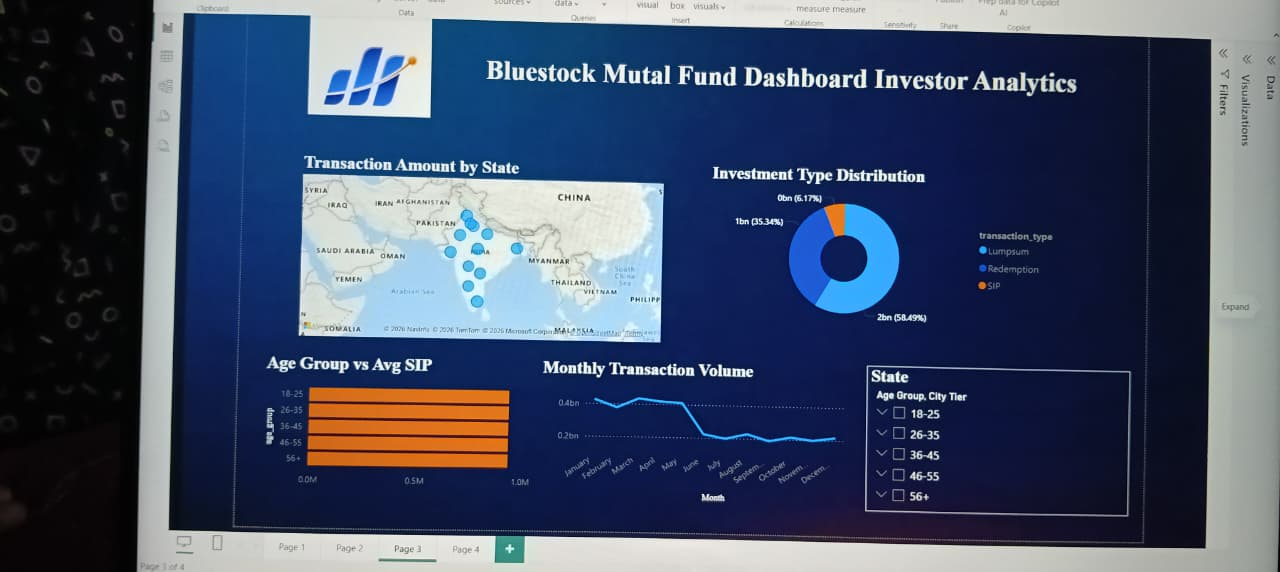

This screenshot's page, from the dashboard's own definition file:
{"tool":"powerbi","page":{"name":"Page 3","canvas":[1280,720],"ordinal":2},"visuals":[{"type":"textbox","box":[283.3,25,945,98.3],"z":0},{"type":"map","title":"Transaction Amount by State","fields":{"Category":["08_investor_transactions.state"],"Size":["Sum(08_investor_transactions.amount_inr)"]},"box":[78.3,193.3,516.7,263.3],"z":1000},{"type":"donutChart","title":"Investment Type Distribution","fields":{"Category":["08_investor_transactions.transaction_type"],"Y":["Sum(08_investor_transactions.amount_inr)"]},"box":[655,193.3,508.3,240],"z":2000},{"type":"clusteredBarChart","title":"Age Group vs Avg SIP","fields":{"Category":["08_investor_transactions.age_group"],"Y":["Sum(04_monthly_sip_inflows.sip_inflow_crore)"]},"box":[35,476.7,380,205],"z":3000},{"type":"lineChart","title":"Monthly Transaction Volume","fields":{"Category":["08_investor_transactions.transaction_date.Variation.Date Hierarchy.Month"],"Y":["Sum(08_investor_transactions.amount_inr)"]},"box":[420,476.7,438.3,205],"z":4000},{"type":"slicer","title":"State","fields":{"Values":["08_investor_transactions.age_group","08_investor_transactions.city_tier"]},"box":[885,478.3,371.7,205],"z":5000},{"type":"image","box":[63.3,0,220,140],"z":6000}]}

Visuals, with their boxes on the page's 1280x720 design canvas (x1, y1, x2, y2). These are canvas units, not pixel positions in the 1280x572 screenshot, which may show the page scaled, cropped or inside an application window:
textbox: {"left": 283, "top": 25, "right": 1228, "bottom": 123}
"Transaction Amount by State" map: {"left": 78, "top": 193, "right": 595, "bottom": 457}
"Investment Type Distribution" donutChart: {"left": 655, "top": 193, "right": 1163, "bottom": 433}
"Age Group vs Avg SIP" clusteredBarChart: {"left": 35, "top": 477, "right": 415, "bottom": 682}
"Monthly Transaction Volume" lineChart: {"left": 420, "top": 477, "right": 858, "bottom": 682}
"State" slicer: {"left": 885, "top": 478, "right": 1257, "bottom": 683}
image: {"left": 63, "top": 0, "right": 283, "bottom": 140}
